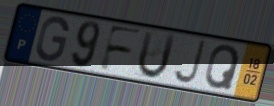9: (68, 20, 104, 70)
F: (96, 23, 145, 74)
G: (34, 15, 72, 64)
J: (171, 38, 208, 85)
Q: (203, 43, 242, 92)
U: (136, 29, 178, 81)
